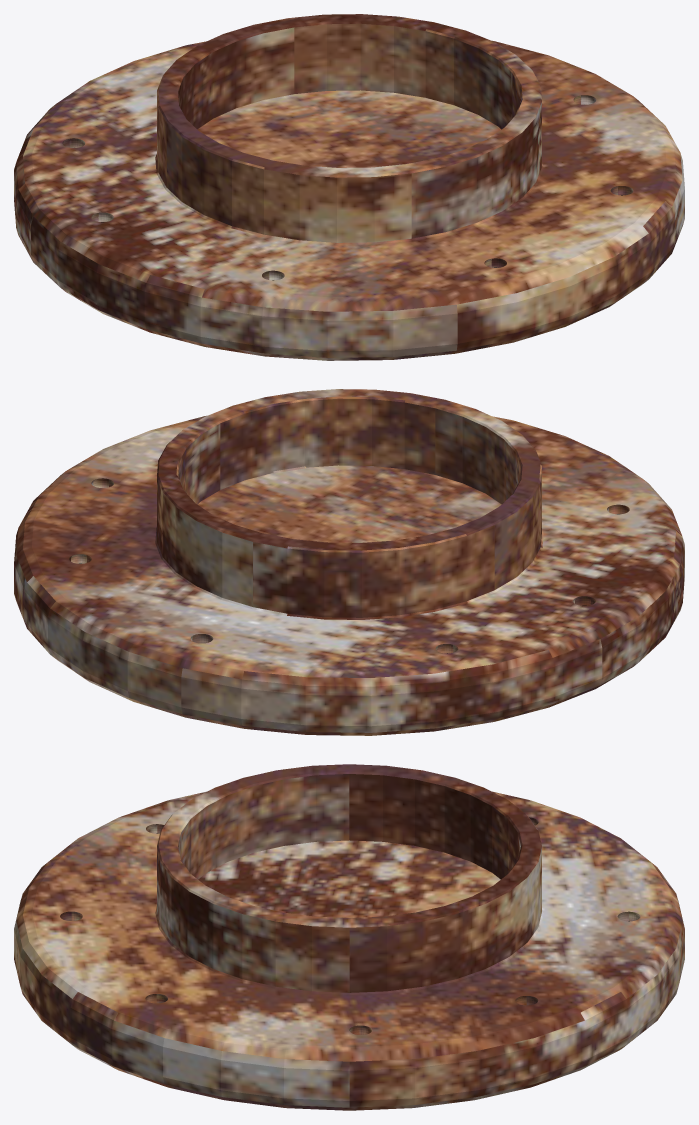
The model's file is Scrap_parts_metal_scrap4.0.glb.
3 views of the same model, one above another, from view 1: azimuth 30°, elevation 25°; view 2: azimuth 150°, elevation 25°; view 3: azimuth 270°, elevation 25° (orthographic).
Parts seen in each view (by area): view 1: Circle; view 2: Circle; view 3: Circle.
Boxes of the visible parts, <box> form: Circle: <box>14,14,684,360</box>; Circle: <box>14,389,684,735</box>; Circle: <box>14,764,684,1110</box>.
Size of the model in its own units: 1.33 by 0.2845 by 1.33.
2 materials, 1 textured.
